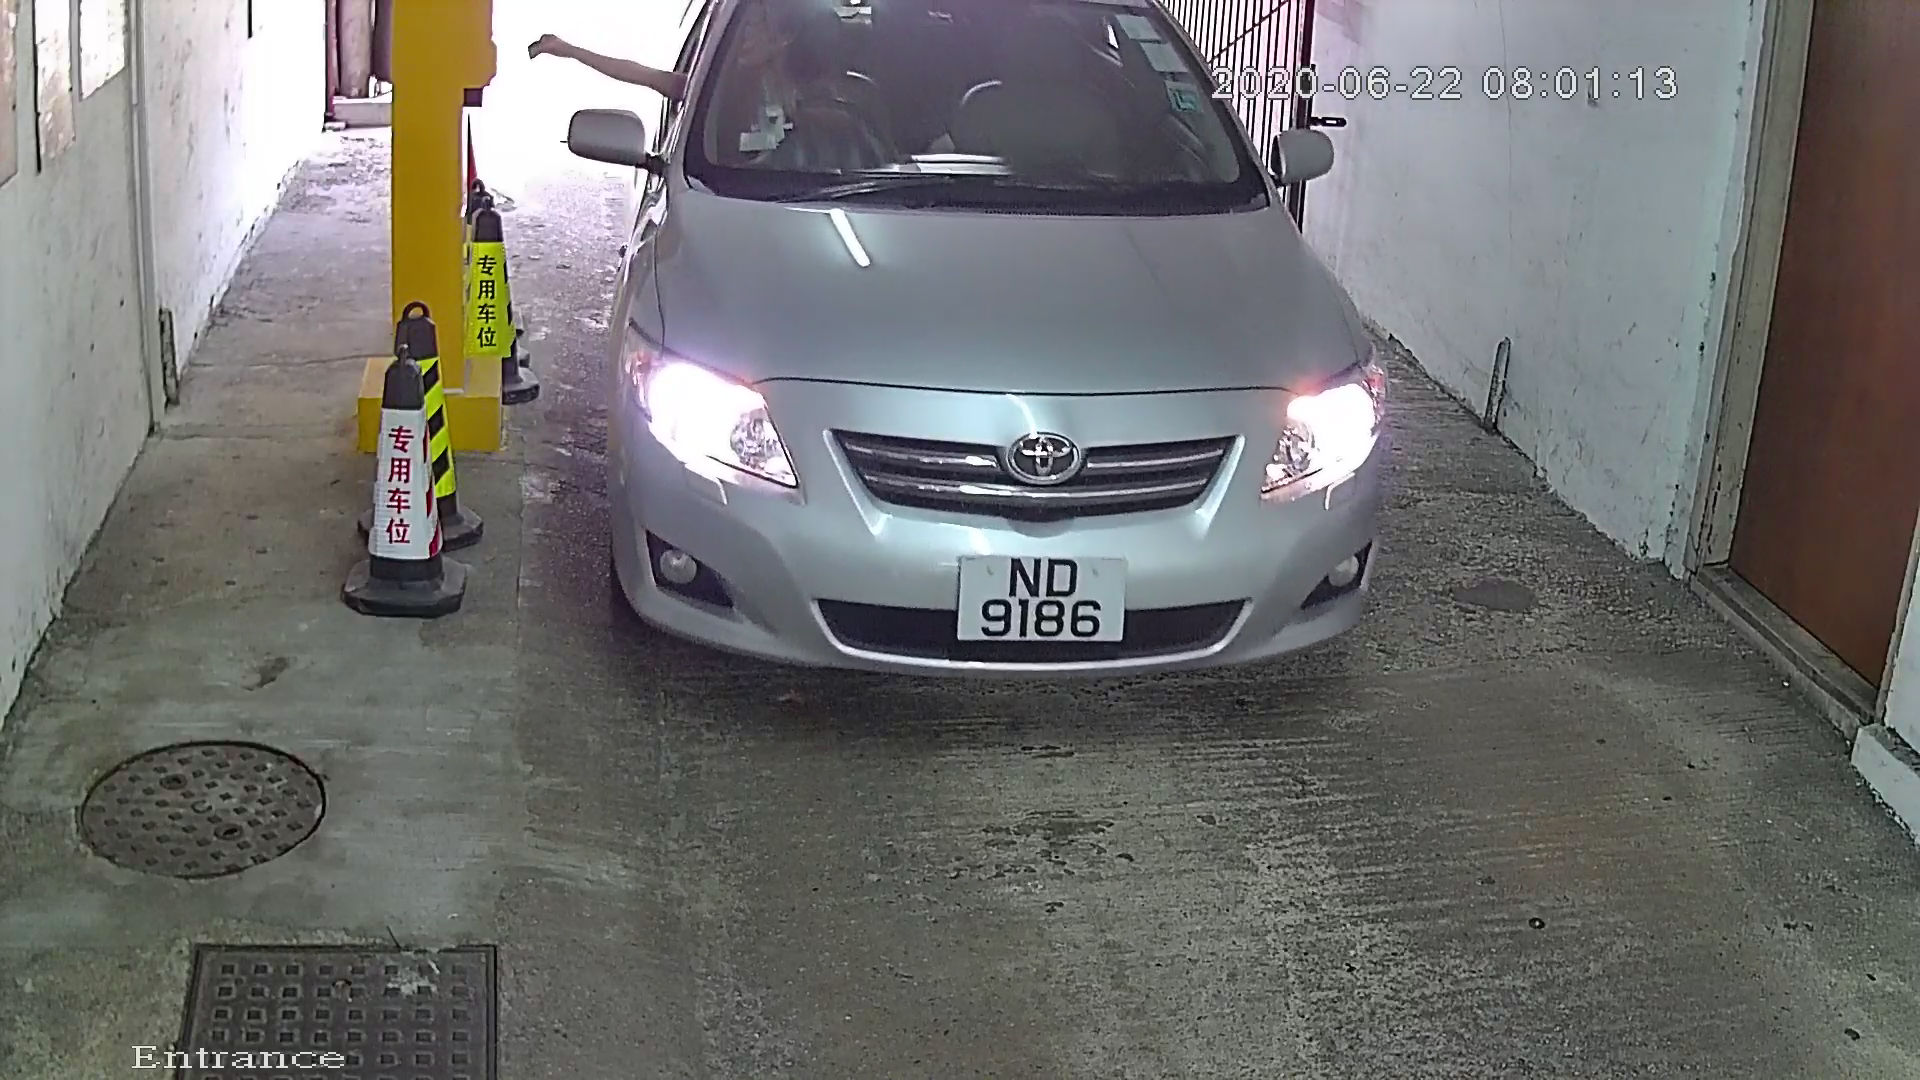privatecar: (579, 3, 1453, 769)
